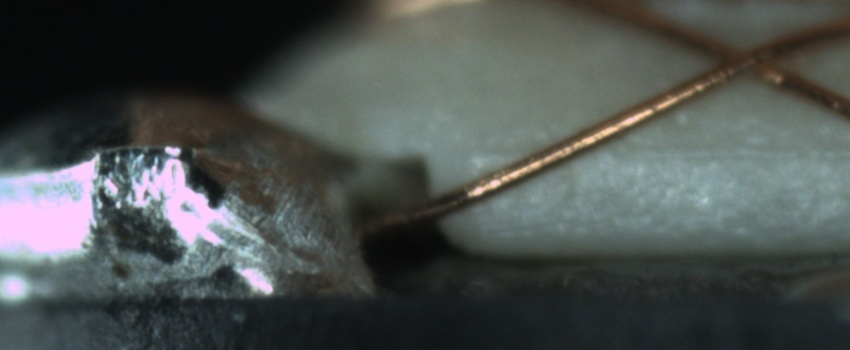CL: (693, 27, 793, 92)
DL: (480, 119, 849, 185)
